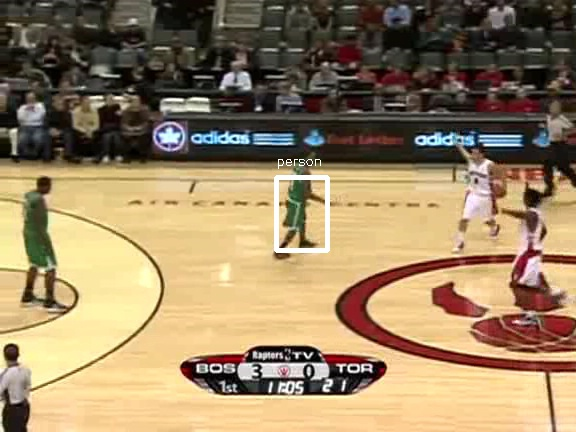person: (281, 158, 315, 239), (280, 158, 314, 239), (282, 158, 316, 239), (281, 157, 315, 238), (281, 159, 315, 240)
target_negative: (6, 262, 312, 377), (249, 155, 468, 292), (32, 13, 460, 58), (140, 373, 174, 426), (133, 408, 377, 412), (390, 203, 396, 343)
